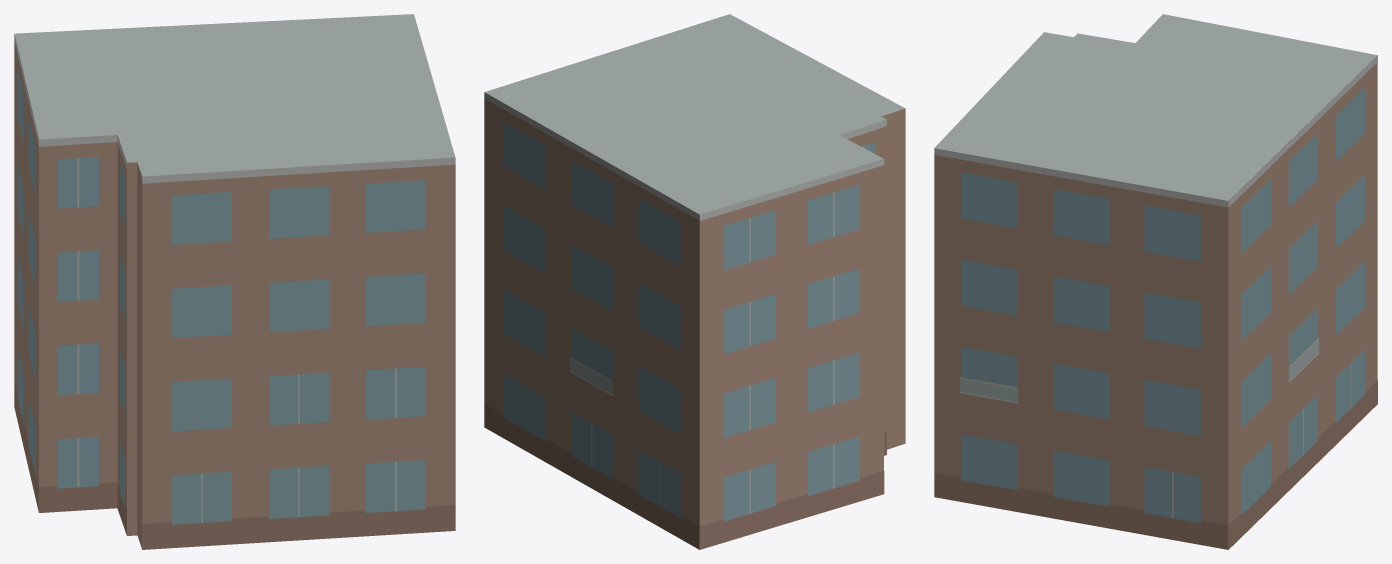
The model's file is survey-upis-32669779.glb.
3 renders of one model, left to right at view 1: azimuth 30°, elevation 25°; view 2: azimuth 150°, elevation 25°; view 3: azimuth 270°, elevation 25°, orthographic. The views are drawn at different scales.
Visible parts, largest first — view 1: survey-upis-32669779.tmp; view 2: survey-upis-32669779.tmp; view 3: survey-upis-32669779.tmp.
Part boxes in pixels (x1,y1,x2,y2): survey-upis-32669779.tmp: (14,14,455,549); survey-upis-32669779.tmp: (484,14,905,549); survey-upis-32669779.tmp: (934,14,1377,549).
Size of the model in its own units: 14.72 by 12.8 by 14.76.
